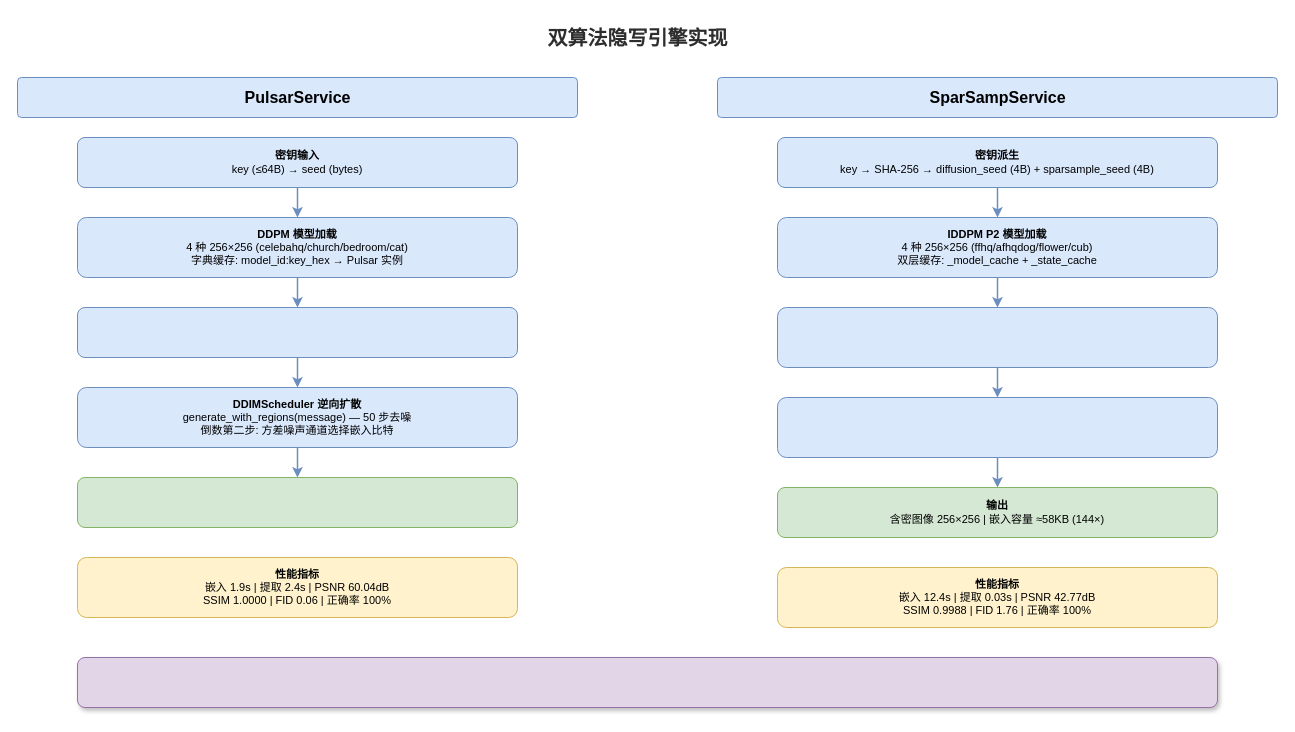
Image size: 1295x732. Some labels were removed from this diagram. Here are the shapes that lost their labels. From the top down, the centre of each, then its label:
(297,332): 消息纠错编码 Reed-Solomon + Reed-Muller 级联码
(997,337): P2-weighting 确定性扩散 10 respaced 步 (自 1000 步线性 β 调度) t=T-1 → t=1, 输出 x₁ + (μ, σ)
(997,427): 高斯量化 + 算术编码嵌入 256 bin 量化 | 消息段 + PRN = MRN 稀疏采样消歧 | block_size=32 bits
(297,502): 输出 含密图像 256×256 | 嵌入容量 320~613B
(648,683): 对比总结 ：Pulsar 适合低延迟场景（容量小、质量高）；SparSamp 适合大容量场景（144× 容量、提取极快）
